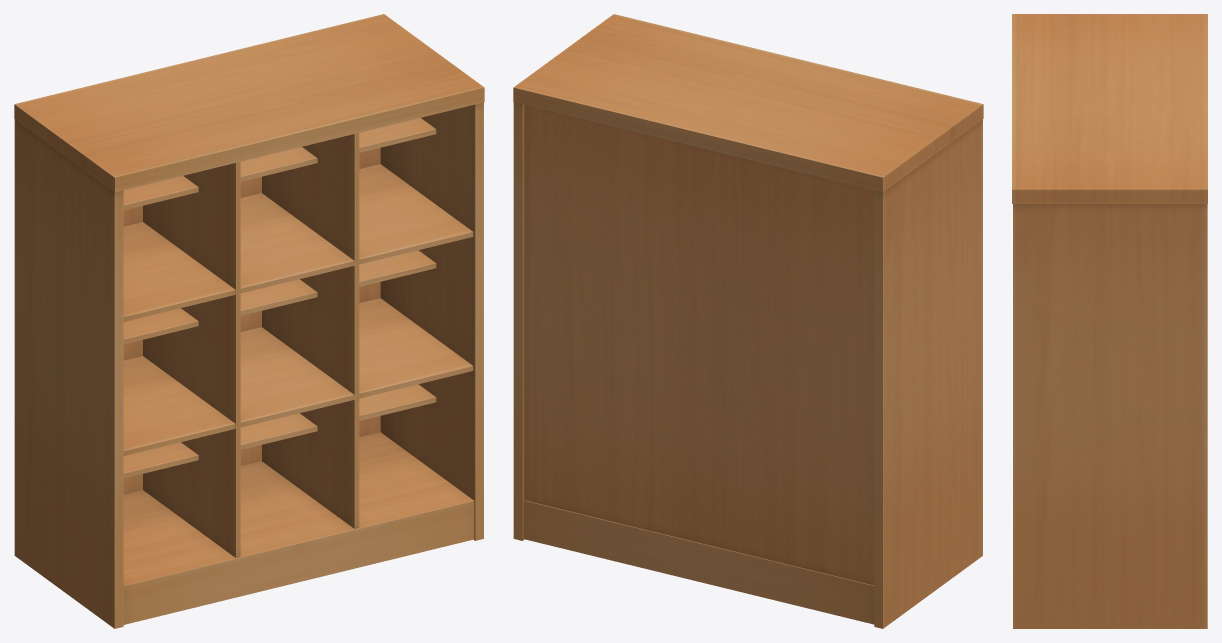
File: set_shoecupboard_b_16.fbx
The picture shows the model from 3 angles, left to right: view 1: azimuth 30°, elevation 25°; view 2: azimuth 150°, elevation 25°; view 3: azimuth 270°, elevation 25°; orthographic projection. The views are drawn at different scales.
Visible parts, largest first — view 1: set_shoecupboard_b_16; view 2: set_shoecupboard_b_16; view 3: set_shoecupboard_b_16.
Boxes of the visible parts, left/top/right/bottom form: set_shoecupboard_b_16: left=14, top=14, right=484, bottom=628; set_shoecupboard_b_16: left=513, top=14, right=983, bottom=628; set_shoecupboard_b_16: left=1012, top=14, right=1207, bottom=628.
Bounding box in the file's own units: 79.39 × 92.62 × 37.38.
